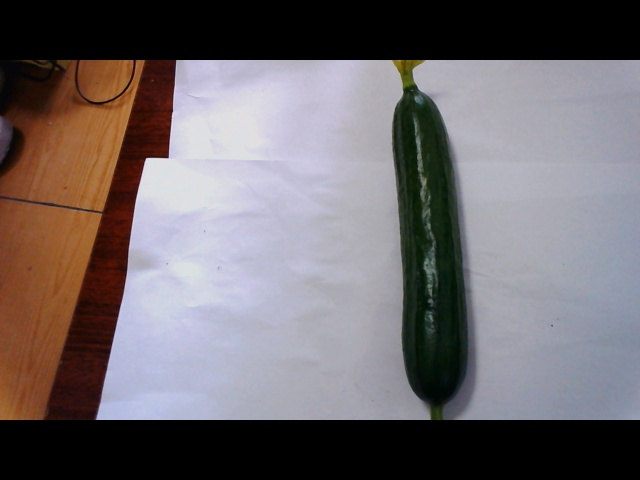cucumber: (382, 75, 484, 417)
